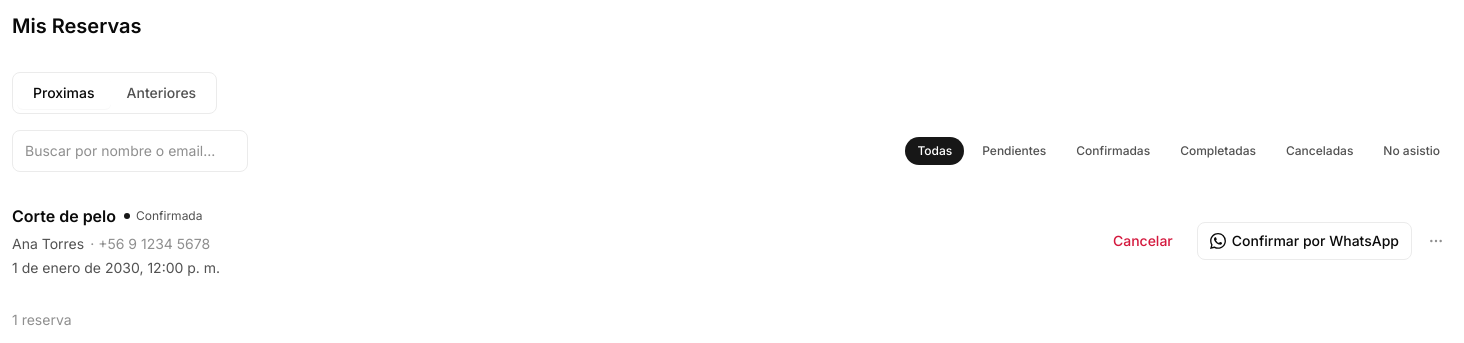
Test: ReservasPage › mantiene los filtros visibles cuando la busqueda no tiene resultados
Check: the text "Ana Torres· +56 9 1234 5678" is shown, box top-left (12, 235), bottom-right (210, 252)
Type "zzz" into the field with placeholder "Buscar por nombre o email...".
click(130, 151); type("zzz")  # box top-left (12, 130), bottom-right (248, 172)
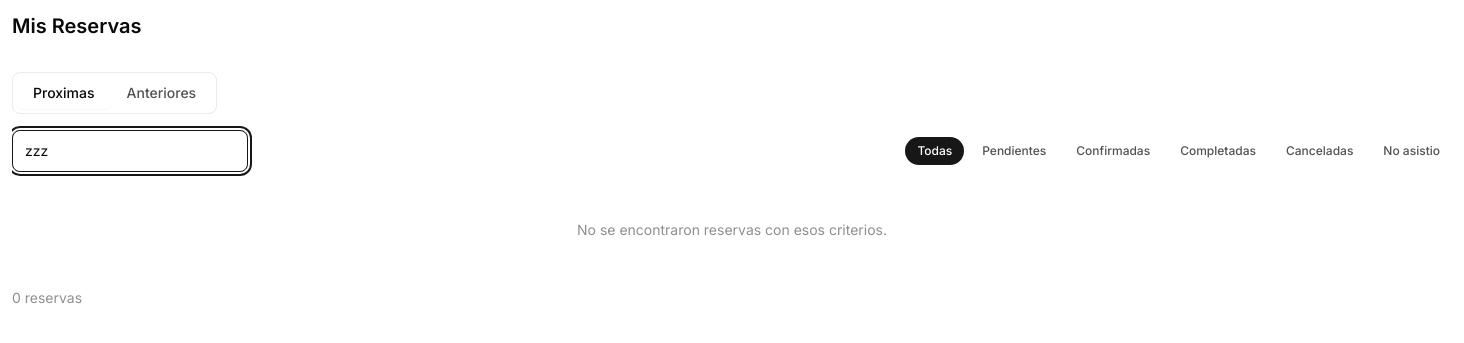
Check: the text "No se encontraron reservas con esos criterios." is shown, box top-left (577, 221), bottom-right (887, 238)
